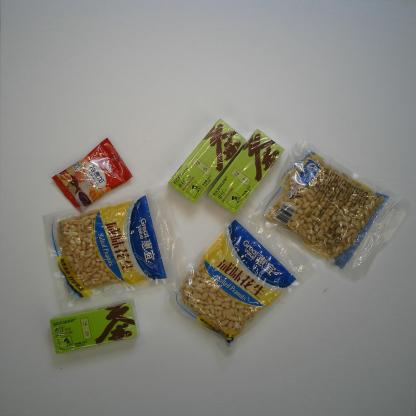Dried Fruit: (248, 134, 412, 276), (164, 209, 310, 352), (41, 188, 186, 310)
Instant Drink: (167, 117, 248, 203), (207, 127, 283, 218), (50, 137, 133, 215), (48, 296, 142, 356)
